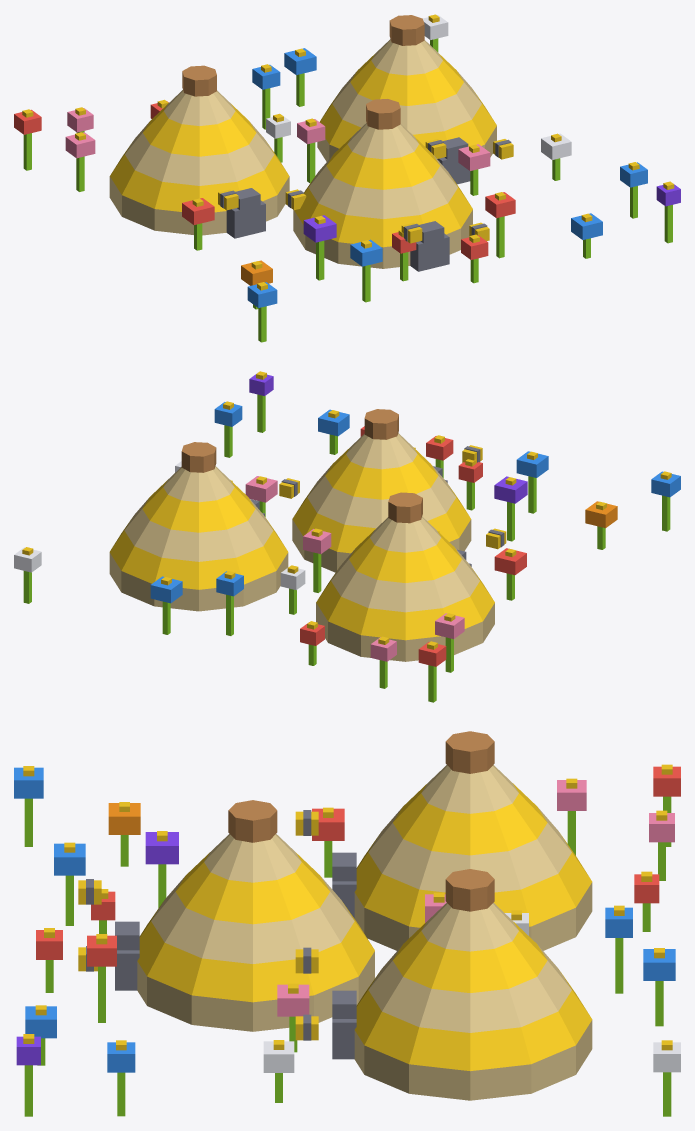
Rendered from hive-1x1-t3.glb.
The picture shows the model from 3 angles, top to bottom: view 1: azimuth 30°, elevation 25°; view 2: azimuth 150°, elevation 25°; view 3: azimuth 270°, elevation 25°; orthographic projection. The views are drawn at different scales.
Visible parts, largest first — view 1: hive-1x1-t3; view 2: hive-1x1-t3; view 3: hive-1x1-t3.
Part boxes in pixels (left/top/right/bottom): hive-1x1-t3: left=14, top=14, right=680, bottom=342; hive-1x1-t3: left=14, top=371, right=680, bottom=702; hive-1x1-t3: left=14, top=731, right=680, bottom=1116.
Bounding box in the file's own units: 0.9824 × 0.276 × 0.9824.
Materials: 1 (1 with a texture image).
